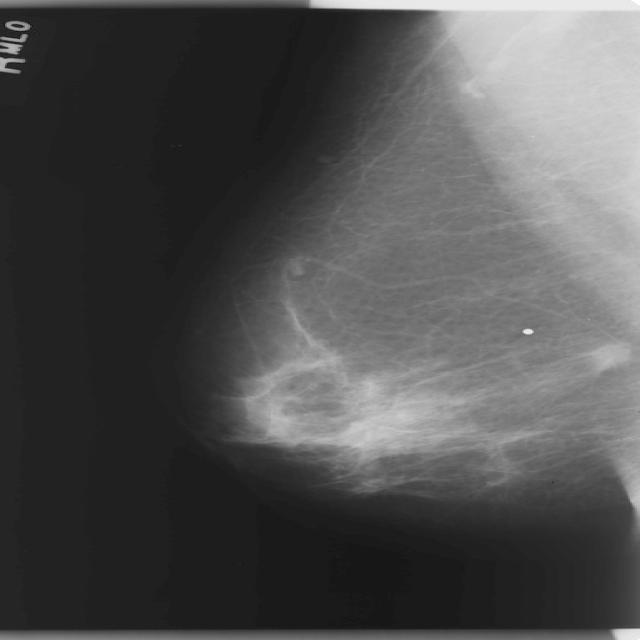tumour: (587, 339, 627, 369)
